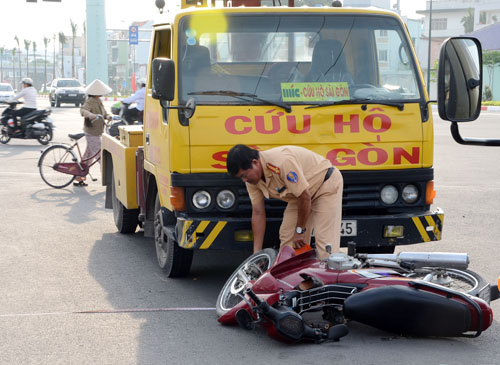police: (233, 144, 357, 265)
